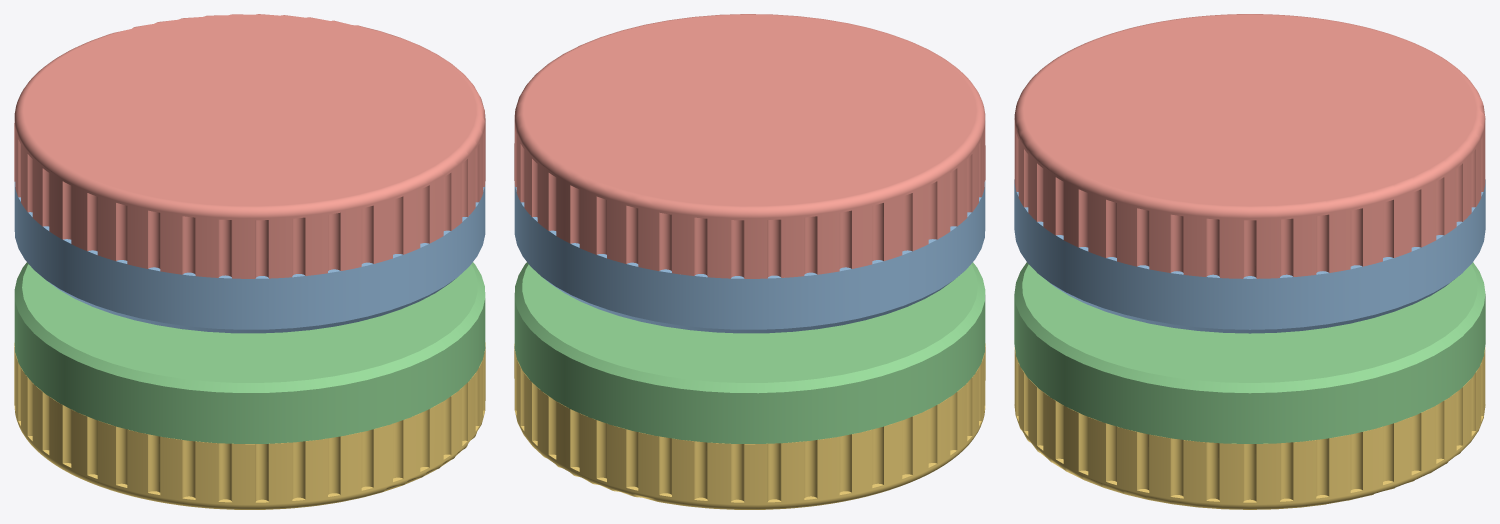
The model's file is picayoyo-assembly.glb.
The picture shows the model from 3 angles, left to right: view 1: azimuth 30°, elevation 25°; view 2: azimuth 150°, elevation 25°; view 3: azimuth 270°, elevation 25°; orthographic projection.
Visible parts, largest first — view 1: p02_grindercap, =>[0:1:1:6], =>[0:1:1:8], p01_grinderhalf; view 2: p02_grindercap, =>[0:1:1:6], =>[0:1:1:8], p01_grinderhalf; view 3: p02_grindercap, =>[0:1:1:6], =>[0:1:1:8], p01_grinderhalf.
Part boxes in pixels (<box>): p02_grindercap: <box>14,14,485,278</box>; =>[0:1:1:6]: <box>14,262,485,443</box>; =>[0:1:1:8]: <box>14,342,485,509</box>; p01_grinderhalf: <box>14,182,485,333</box>; p02_grindercap: <box>514,14,985,278</box>; =>[0:1:1:6]: <box>514,262,985,443</box>; =>[0:1:1:8]: <box>514,343,985,509</box>; p01_grinderhalf: <box>514,182,985,333</box>; p02_grindercap: <box>1014,14,1485,278</box>; =>[0:1:1:6]: <box>1014,262,1485,443</box>; =>[0:1:1:8]: <box>1014,347,1485,509</box>; p01_grinderhalf: <box>1014,179,1485,333</box>.
Bounding box in the file's own units: 62 × 44 × 62.
